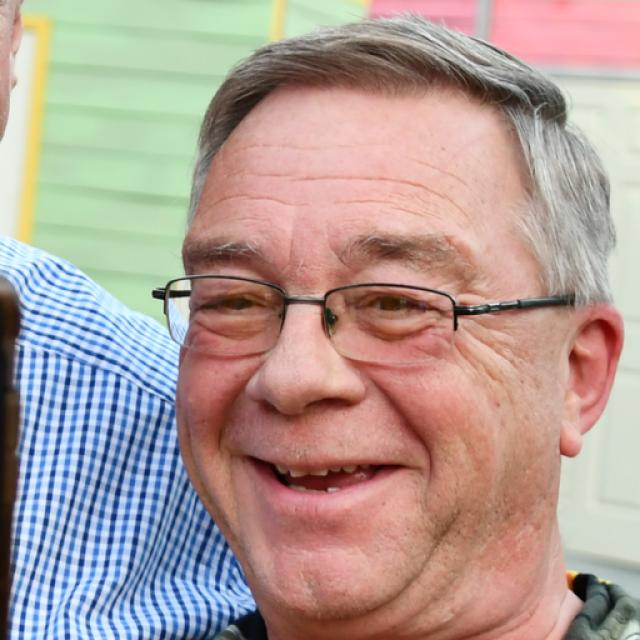Wrinkle: (295, 165, 480, 226), (206, 189, 304, 215), (420, 156, 476, 188), (342, 194, 404, 208), (249, 166, 303, 181)
